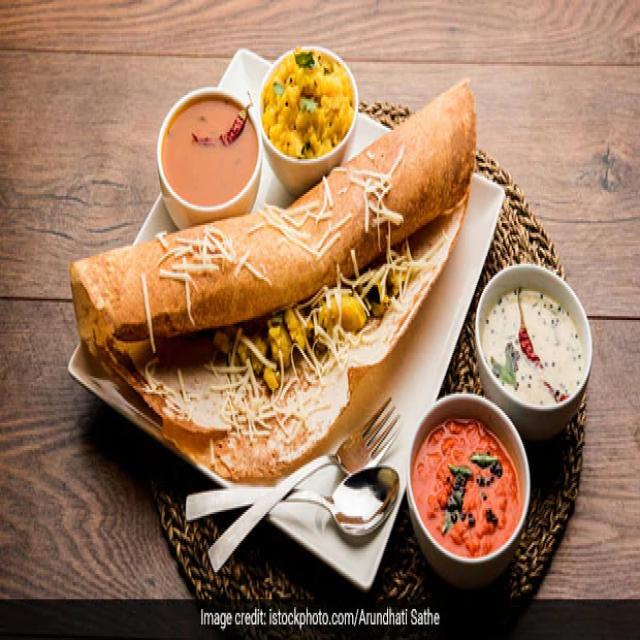Wet Waste: (67, 76, 479, 481), (478, 260, 589, 417)
